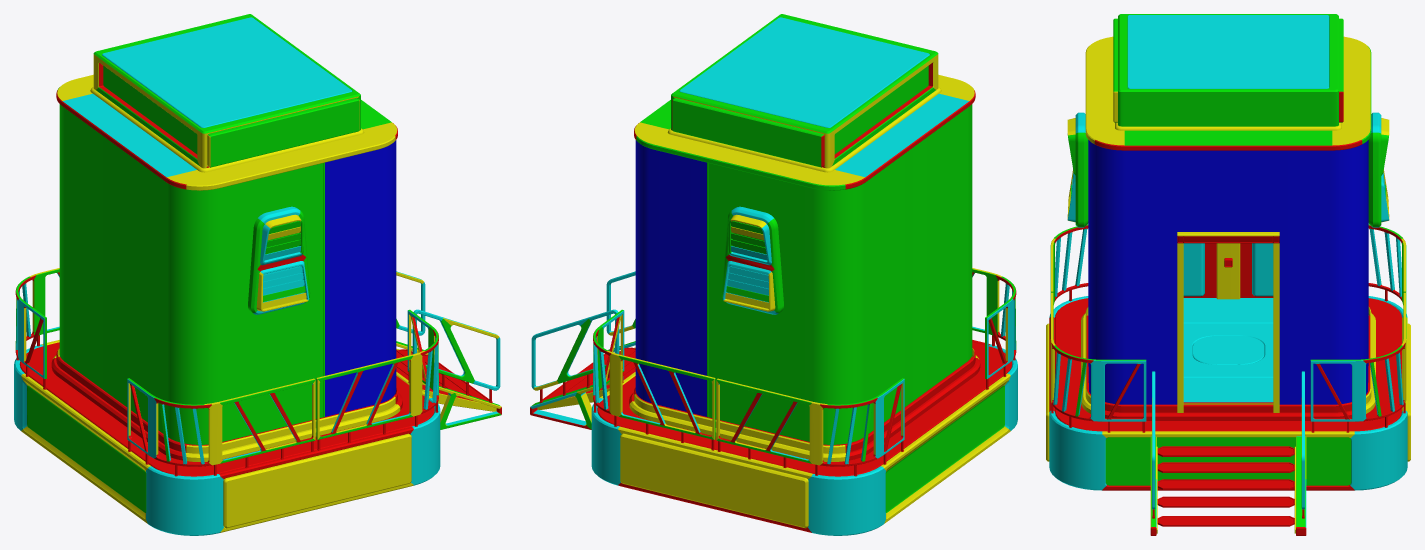
File: Shower_room_1.fbx
3 renders of one model, left to right at view 1: azimuth 30°, elevation 25°; view 2: azimuth 150°, elevation 25°; view 3: azimuth 270°, elevation 25°, orthographic.
Parts seen in each view (by area): view 1: L1:polySurface110; view 2: L1:polySurface110; view 3: L1:polySurface110.
Part boxes in pixels (<box>): L1:polySurface110: <box>14,14,501,535</box>; L1:polySurface110: <box>530,14,1017,535</box>; L1:polySurface110: <box>1046,14,1410,535</box>.
Size of the model in its own units: 508 by 476 by 425.
